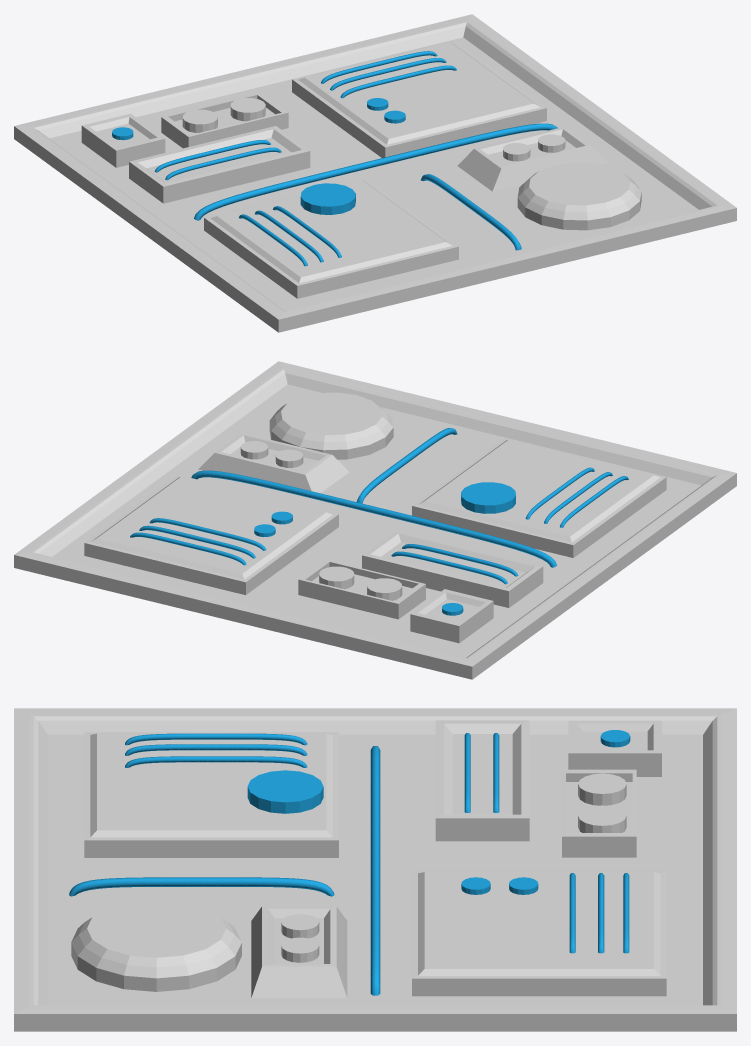
Rendered from tech_tile.fbx.
3 renders of one model, top to bottom at view 1: azimuth 30°, elevation 25°; view 2: azimuth 150°, elevation 25°; view 3: azimuth 270°, elevation 25°, orthographic. The views are drawn at different scales.
Parts seen in each view (by area): view 1: Cube, Pipe.001, Cylinder.002, Pipe.006, Pipe.003, Pipe, Pipe.005, Pipe.002, Pipe.004; view 2: Cube, Pipe.001, Cylinder.002, Pipe.006, Pipe, Pipe.003, Pipe.004, Pipe.002, Pipe.005; view 3: Cube, Cylinder.002, Pipe.001, Pipe.006, Pipe.008, Pipe.009, Pipe.007, Pipe.002, Pipe.003, Pipe, Pipe.004, Pipe.005.
Part boxes in pixels (<box>): Cube: <box>14,14,736,332</box>; Pipe.001: <box>194,123,557,220</box>; Cylinder.002: <box>300,183,355,214</box>; Pipe.006: <box>420,174,521,250</box>; Pipe.003: <box>340,65,456,98</box>; Pipe: <box>321,51,437,83</box>; Pipe.005: <box>165,147,281,180</box>; Pipe.002: <box>330,58,446,90</box>; Pipe.004: <box>154,140,270,172</box>; Cube: <box>14,361,736,679</box>; Pipe.001: <box>191,470,556,567</box>; Cylinder.002: <box>461,482,515,513</box>; Pipe.006: <box>356,428,457,503</box>; Pipe: <box>130,532,246,565</box>; Pipe.003: <box>149,518,266,550</box>; Pipe.004: <box>391,551,507,584</box>; Pipe.002: <box>139,525,255,558</box>; Pipe.005: <box>402,544,518,576</box>; Cube: <box>14,708,736,1031</box>; Cylinder.002: <box>247,770,323,813</box>; Pipe.001: <box>370,746,380,995</box>; Pipe.006: <box>69,877,334,896</box>; Pipe.008: <box>125,744,307,755</box>; Pipe.009: <box>125,756,307,767</box>; Pipe.007: <box>125,733,307,745</box>; Pipe.002: <box>598,873,604,953</box>; Pipe.003: <box>569,873,575,953</box>; Pipe: <box>623,873,629,953</box>; Pipe.004: <box>493,733,499,812</box>; Pipe.005: <box>464,733,470,812</box>.
Bounding box in the file's own units: 847 × 53.13 × 847.
